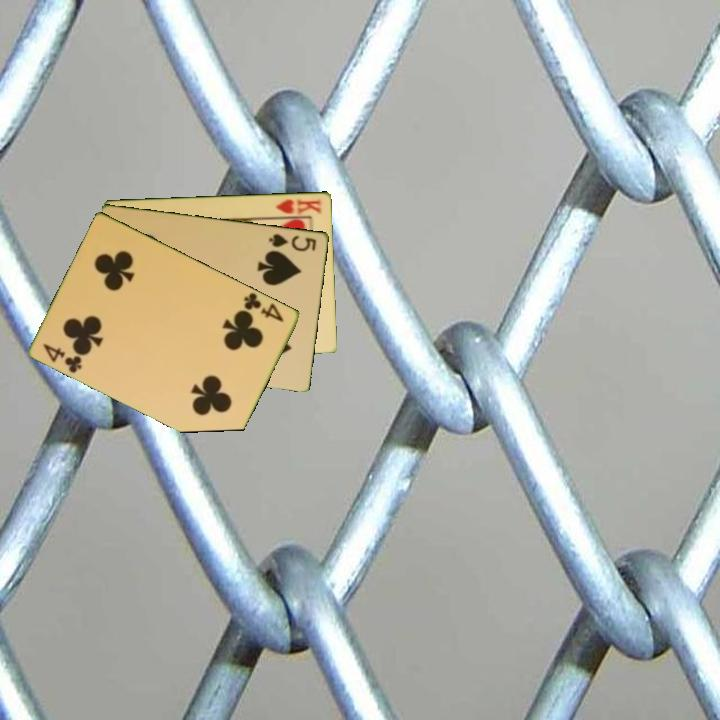4c: (240, 289, 287, 325), (40, 340, 85, 376)
5s: (266, 230, 320, 254)
Kh: (270, 195, 324, 219)
